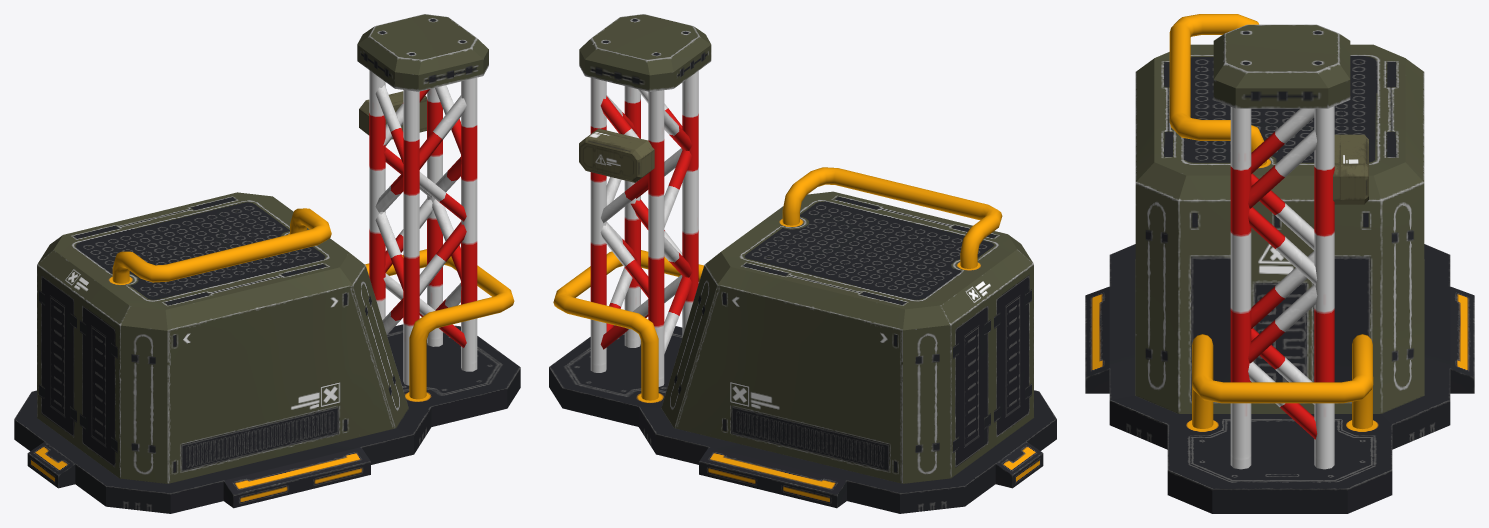
3 renders of one model, left to right at view 1: azimuth 30°, elevation 25°; view 2: azimuth 150°, elevation 25°; view 3: azimuth 270°, elevation 25°, orthographic. The views are drawn at different scales.
Parts seen in each view (by area): view 1: radar_tower; view 2: radar_tower; view 3: radar_tower.
Part boxes in pixels (box(x1,y1,x2,y2)): radar_tower: box(14, 14, 520, 513); radar_tower: box(549, 14, 1056, 513); radar_tower: box(1085, 14, 1474, 513).
Size of the model in its own units: 11.58 by 8.52 by 7.08.
